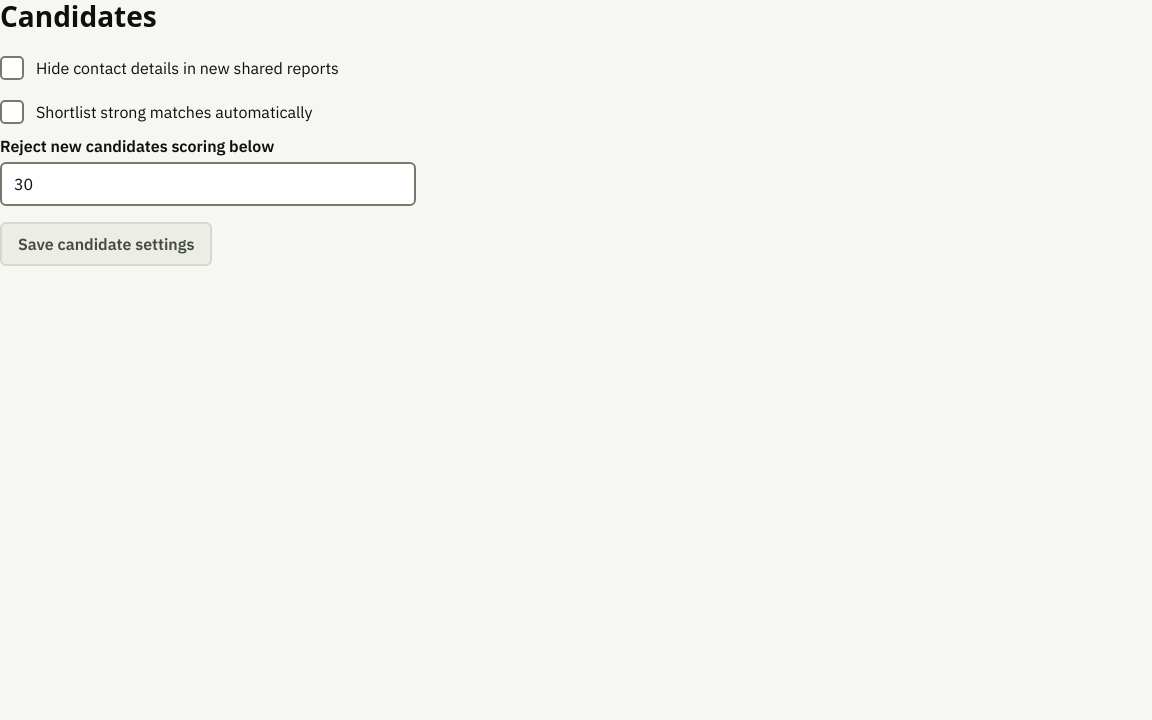
Test: candidate preferences › saves the intake rules and turns the reject limit off when it is cleared
The image size is (1152, 720).
Clear the number field labelled "Reject new candidates scoring below" at (208, 184), box [0, 162, 416, 206]
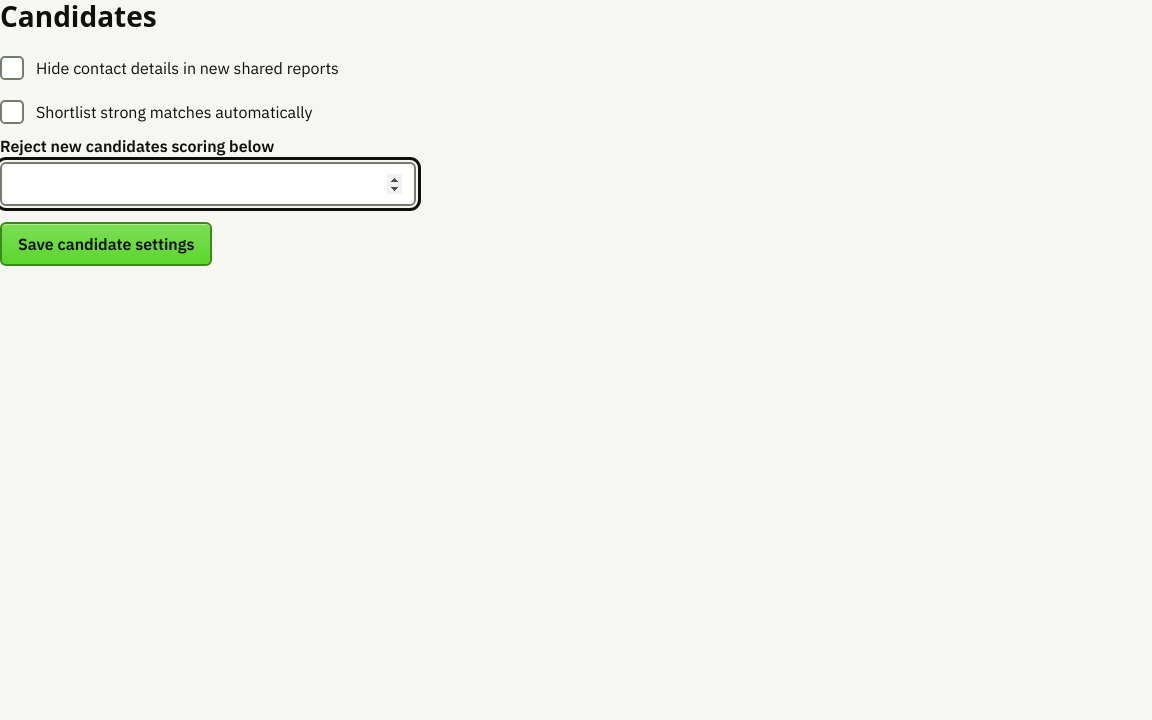
Click the checkbox labelled "Shortlist strong matches automatically".
click(12, 112)  # box [0, 100, 24, 124]
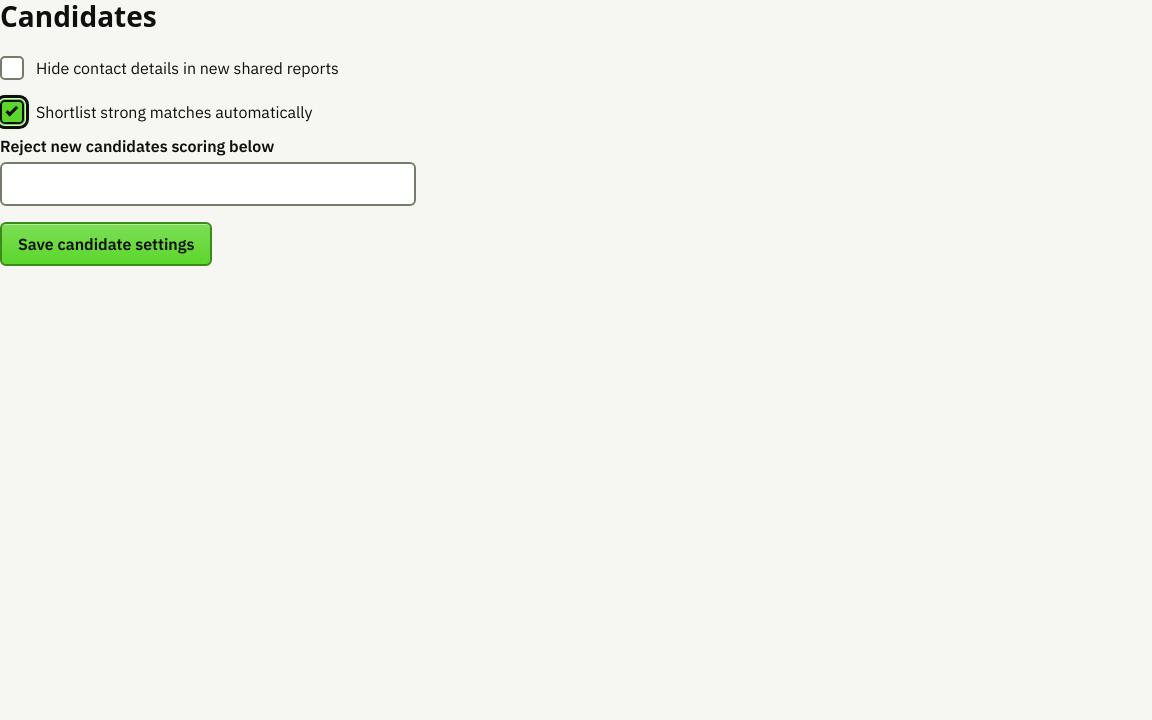
Click the button "Save candidate settings".
click(106, 244)  # box [0, 222, 212, 266]
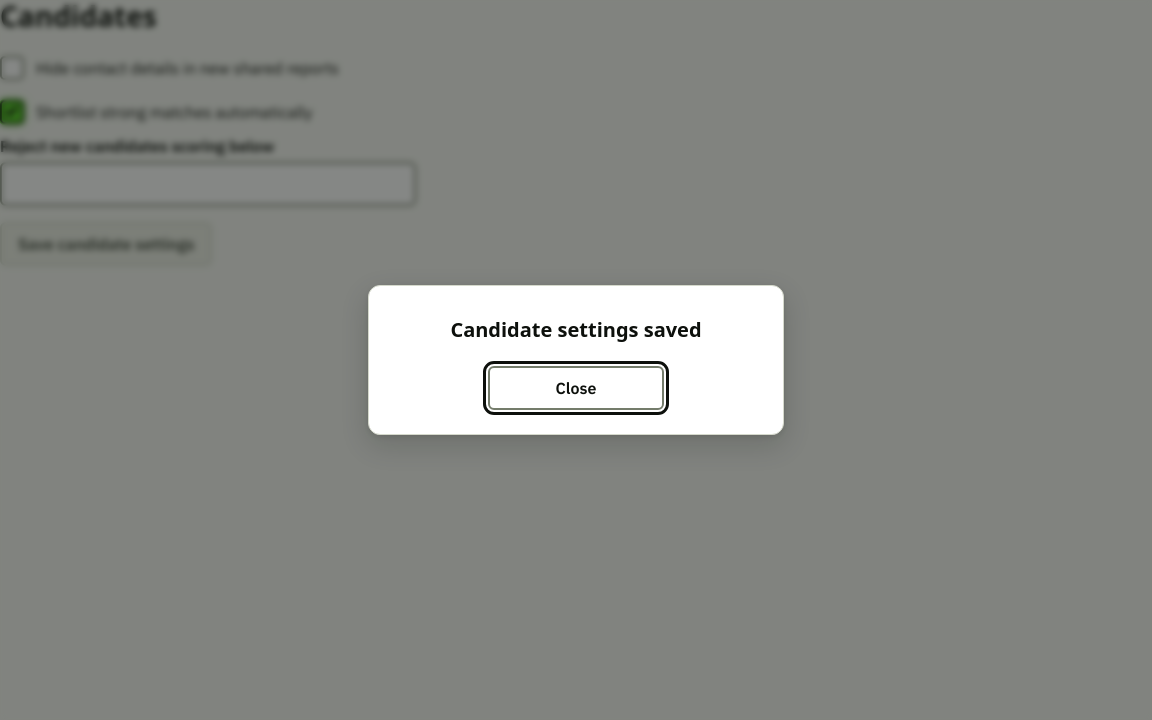
Result: the heading "Candidate settings saved" is shown at [450, 316, 702, 343]
